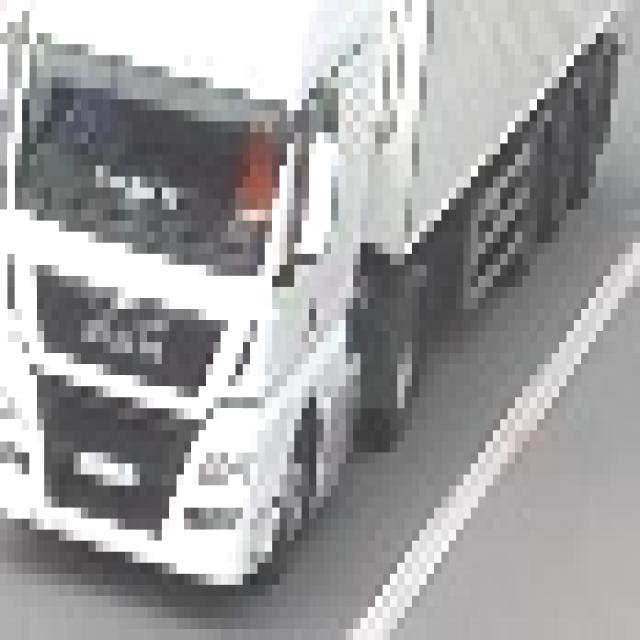TRUCK: (2, 1, 630, 601)
